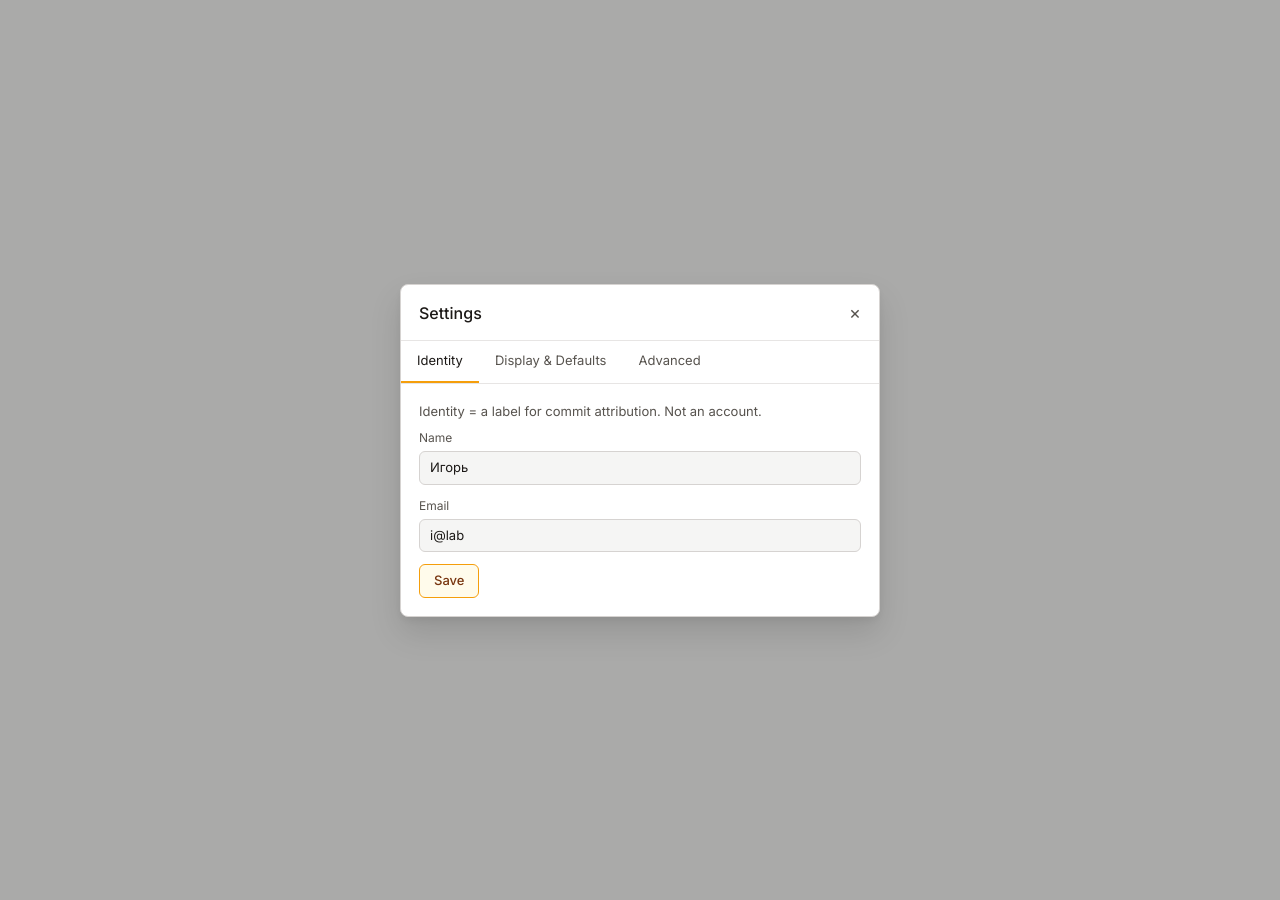
Test: K6 — UnderConstruction + DagPlaceholder + SettingsModal › SettingsModal Advanced Reset shows confirm step (no immediate destruction)
Click the button with test id "settings-tab-advanced". click: (670, 362)
box: [622,341,717,382]
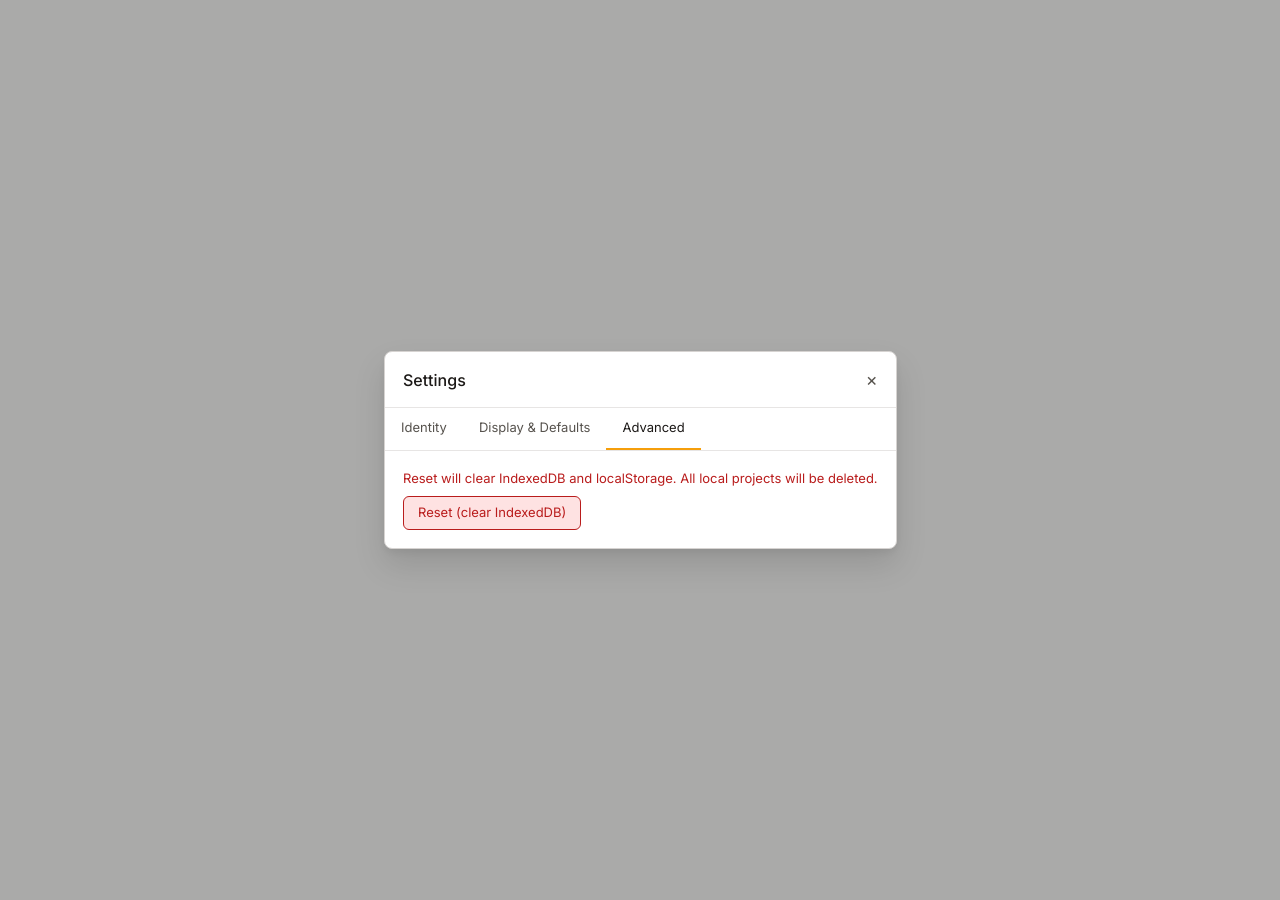
Check: the button with test id "settings-reset" is shown
Click the button with test id "settings-reset". click: (492, 513)
box: [403,496,581,530]
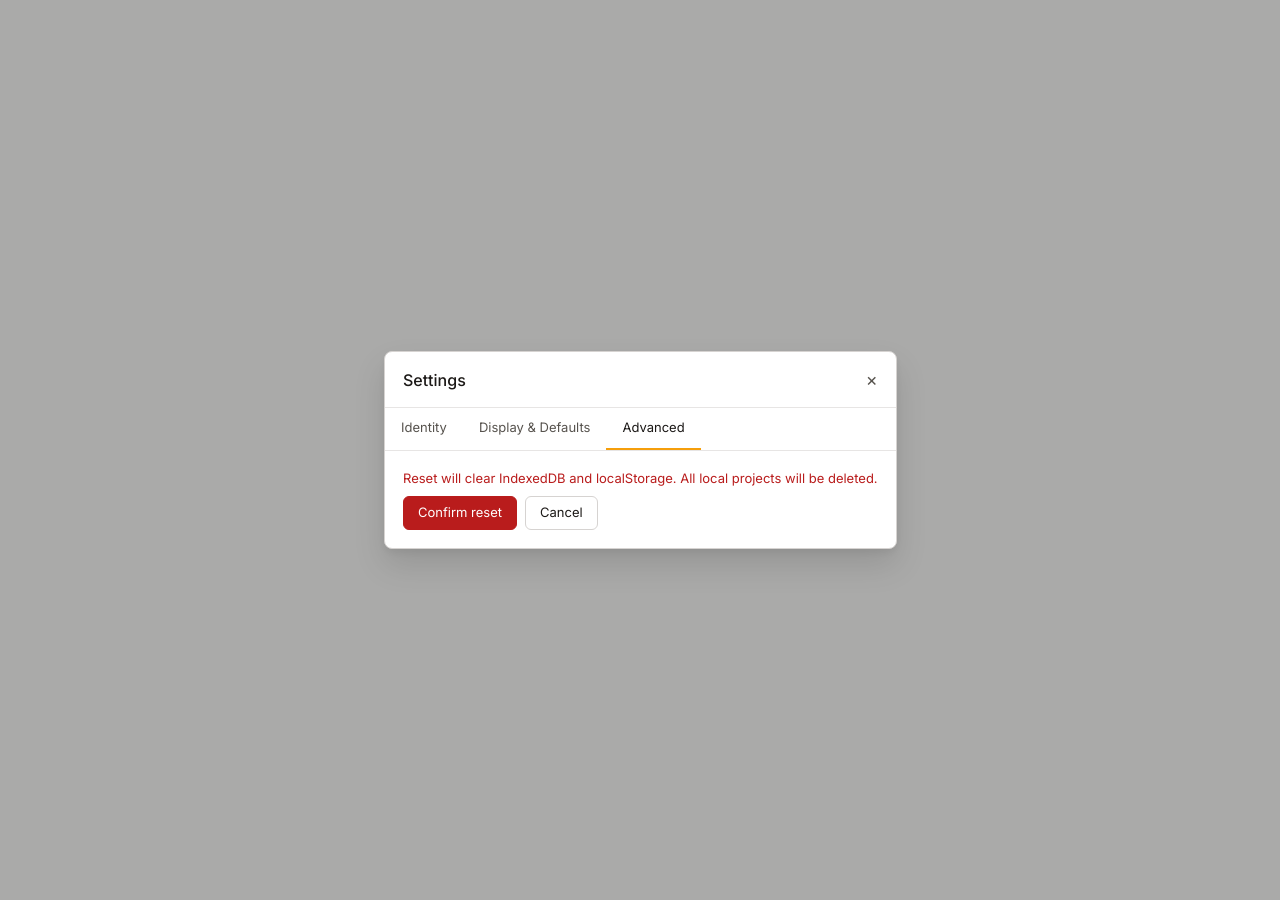
Check: the button with test id "settings-reset-confirm" is shown, box [403,496,517,530]
